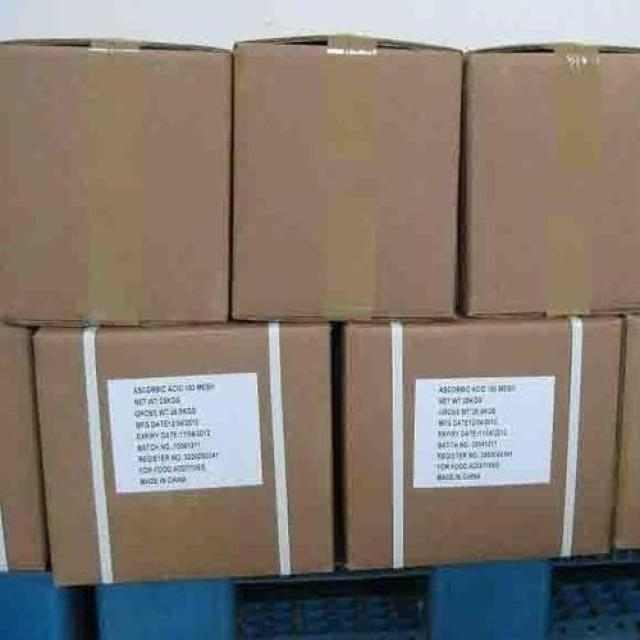box: (35, 317, 334, 586), (340, 309, 621, 569), (232, 33, 462, 324), (0, 37, 230, 327), (461, 42, 640, 319), (0, 328, 47, 572), (613, 315, 640, 549)
